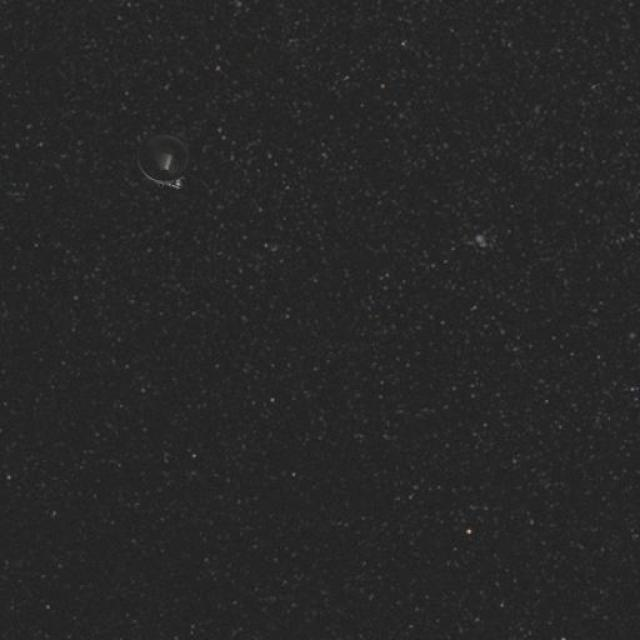debris: (125, 124, 206, 198)
